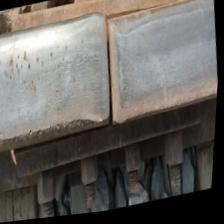person: (41, 0, 179, 148)
